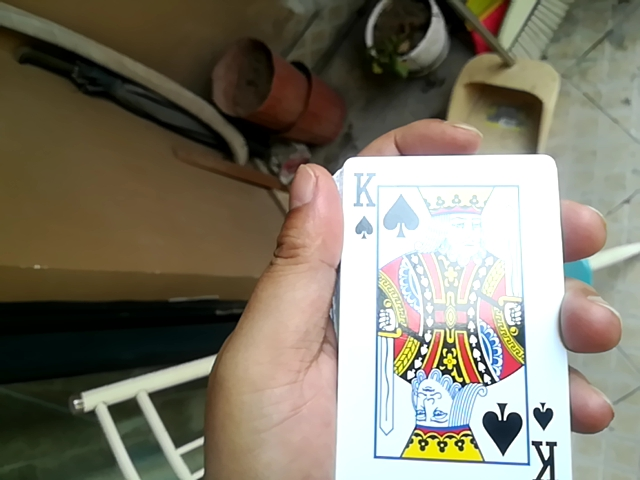ht k: (324, 164, 557, 472)
